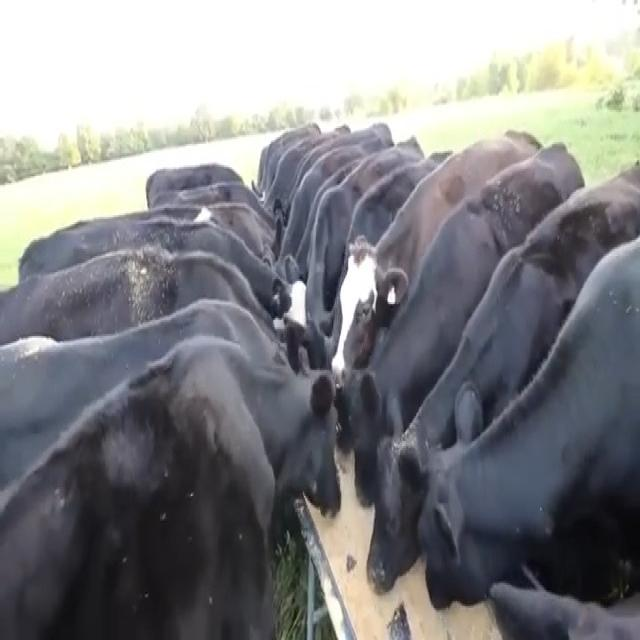cow: (0, 122, 640, 638)
